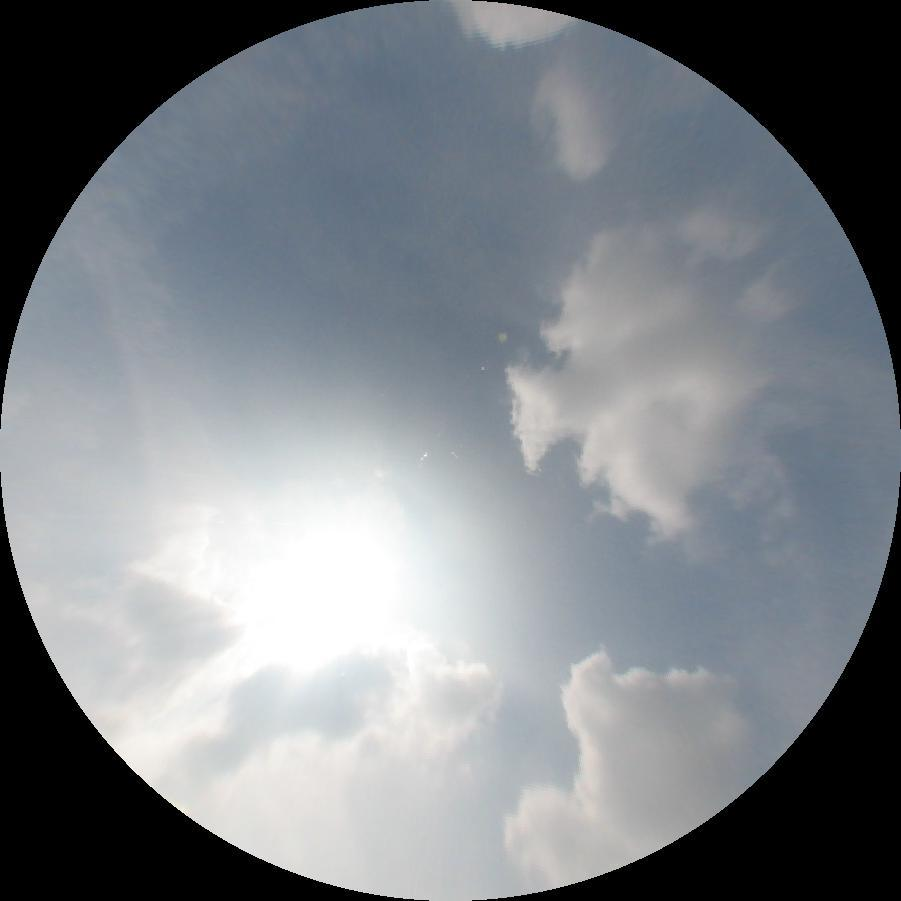sun: (217, 508, 422, 683)
